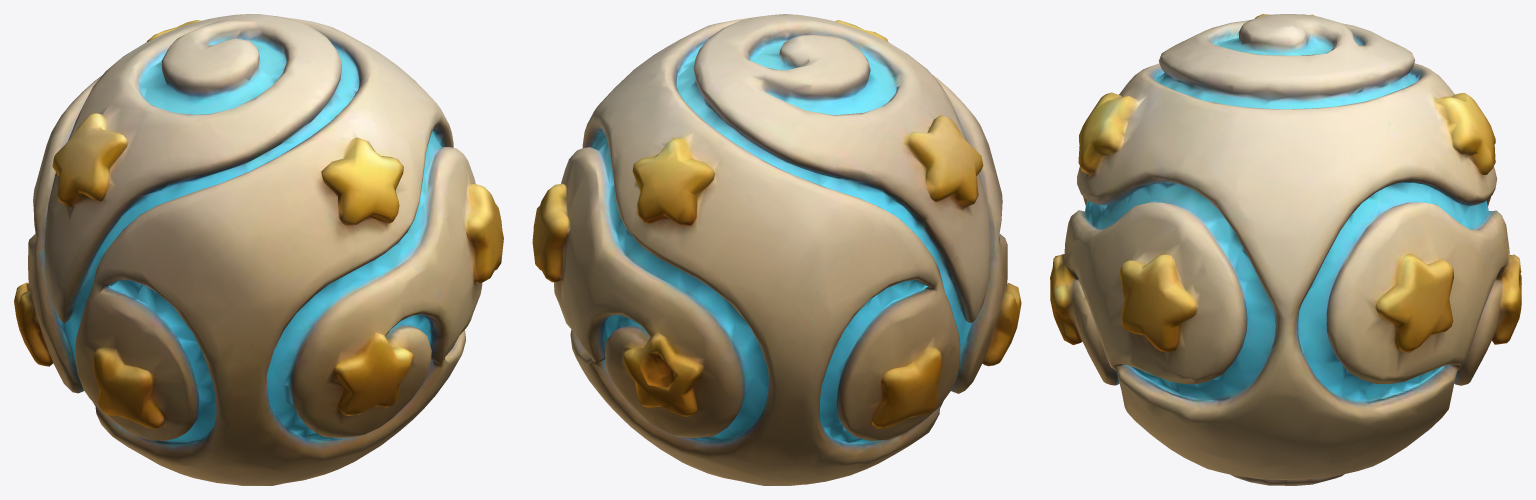
File: boulder-ammo.glb
The picture shows the model from 3 angles, left to right: view 1: azimuth 30°, elevation 25°; view 2: azimuth 150°, elevation 25°; view 3: azimuth 270°, elevation 25°; orthographic projection.
Parts seen in each view (by area): view 1: boulder-ammo; view 2: boulder-ammo; view 3: boulder-ammo.
Boxes of the visible parts, box(x1,y1,x2,y2) form: boulder-ammo: box(14, 14, 503, 485); boulder-ammo: box(532, 14, 1021, 485); boulder-ammo: box(1050, 14, 1521, 485).
Size of the model in its own units: 0.751 by 0.78 by 0.774.
1 material, 1 textured.
